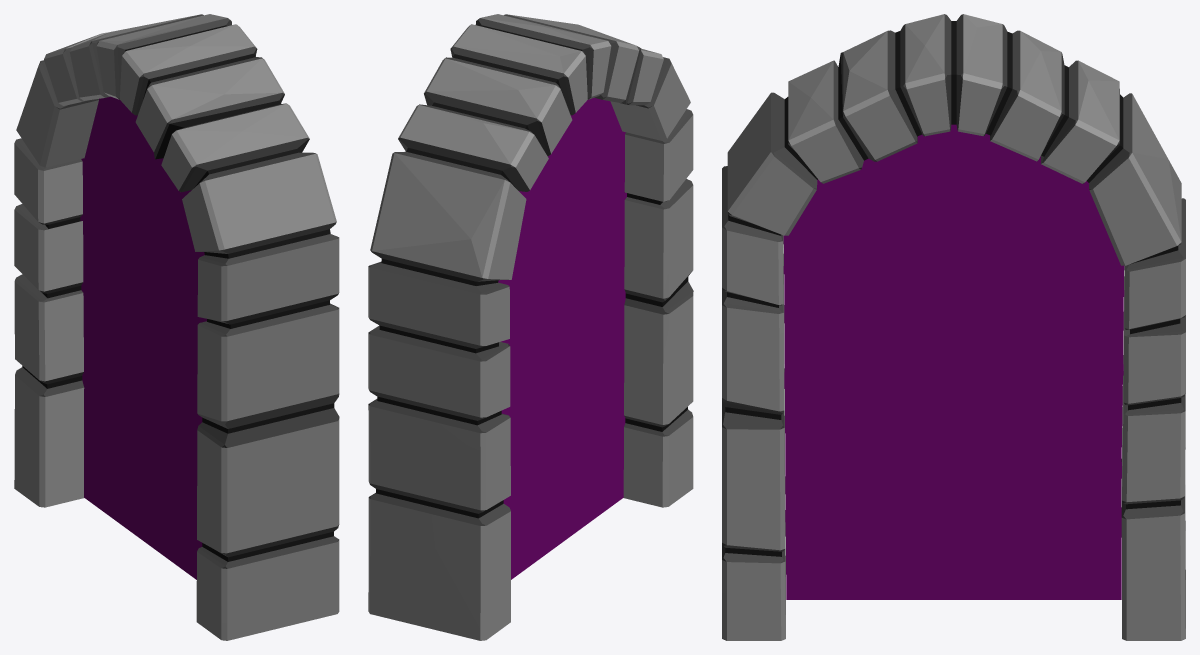
The model's file is portalPurple 1.fbx.
3 views of the same model, side by side, from view 1: azimuth 30°, elevation 25°; view 2: azimuth 150°, elevation 25°; view 3: azimuth 270°, elevation 25° (orthographic). The views are drawn at different scales.
Parts seen in each view (by area): view 1: PortalPurple; view 2: PortalPurple; view 3: PortalPurple.
Part boxes in pixels (bbox=[...]): PortalPurple: bbox=[14, 14, 339, 640]; PortalPurple: bbox=[368, 14, 693, 640]; PortalPurple: bbox=[722, 14, 1185, 640].
Size of the model in its own units: 91.54 by 382 by 284.
